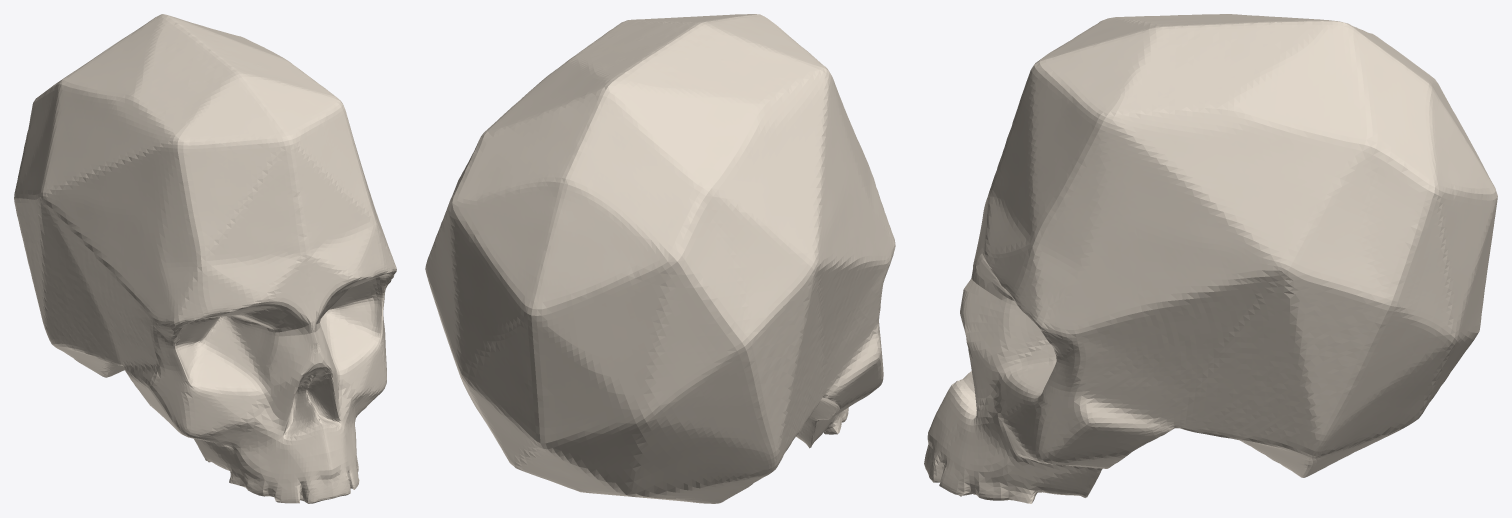
The model's file is череп.fbx.
3 renders of one model, left to right at view 1: azimuth 30°, elevation 25°; view 2: azimuth 150°, elevation 25°; view 3: azimuth 270°, elevation 25°, orthographic. The views are drawn at different scales.
Parts seen in each view (by area): view 1: череп; view 2: череп; view 3: череп.
Boxes of the visible parts, x1,y1,x2,y2 form: череп: [14, 14, 396, 503]; череп: [425, 14, 895, 503]; череп: [924, 14, 1497, 503].
Size of the model in its own units: 143 by 172 by 199.
